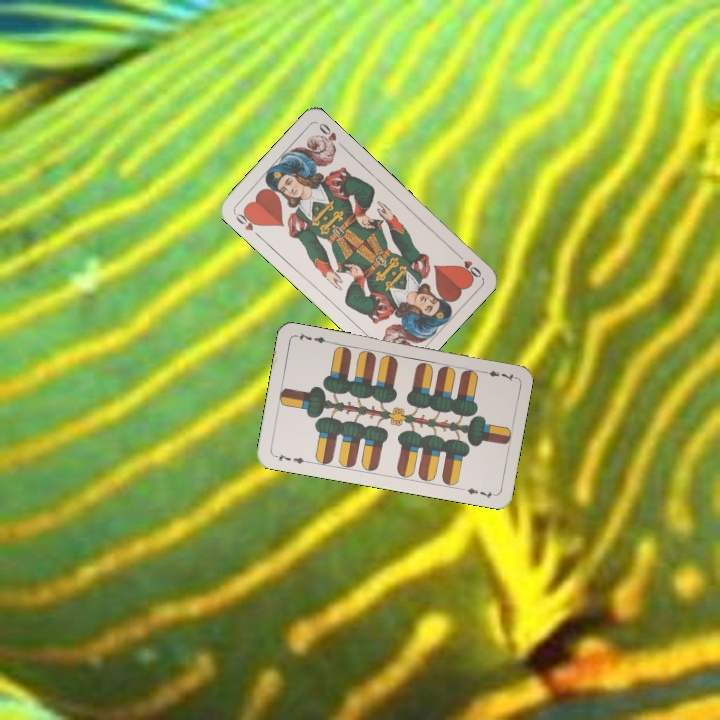E7: (477, 366, 517, 384), (270, 450, 311, 466)
HO: (231, 207, 264, 240), (451, 248, 484, 281)
